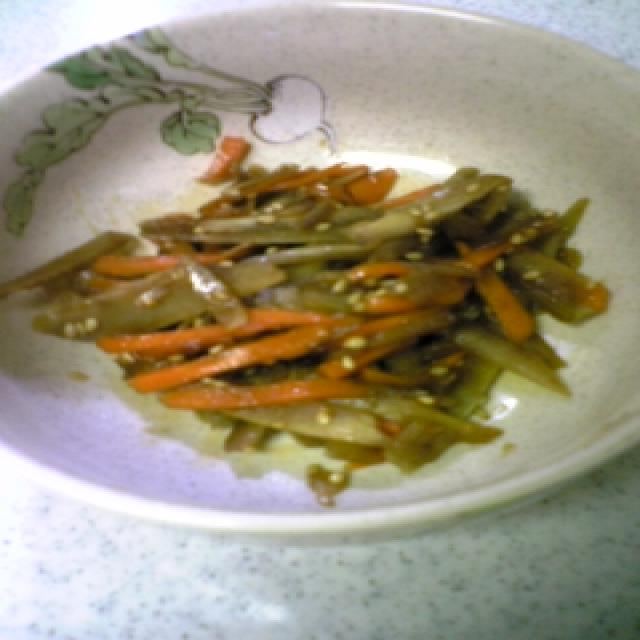蔬菜料理: (21, 144, 624, 528)
